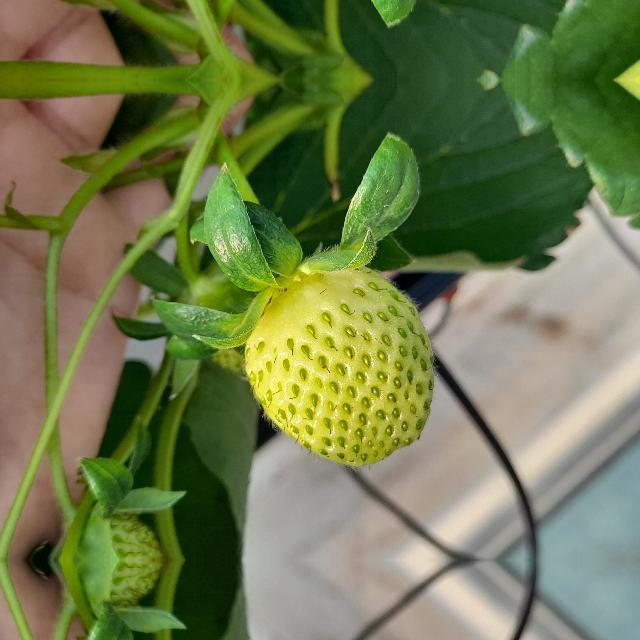Health_25: (242, 265, 436, 467)
